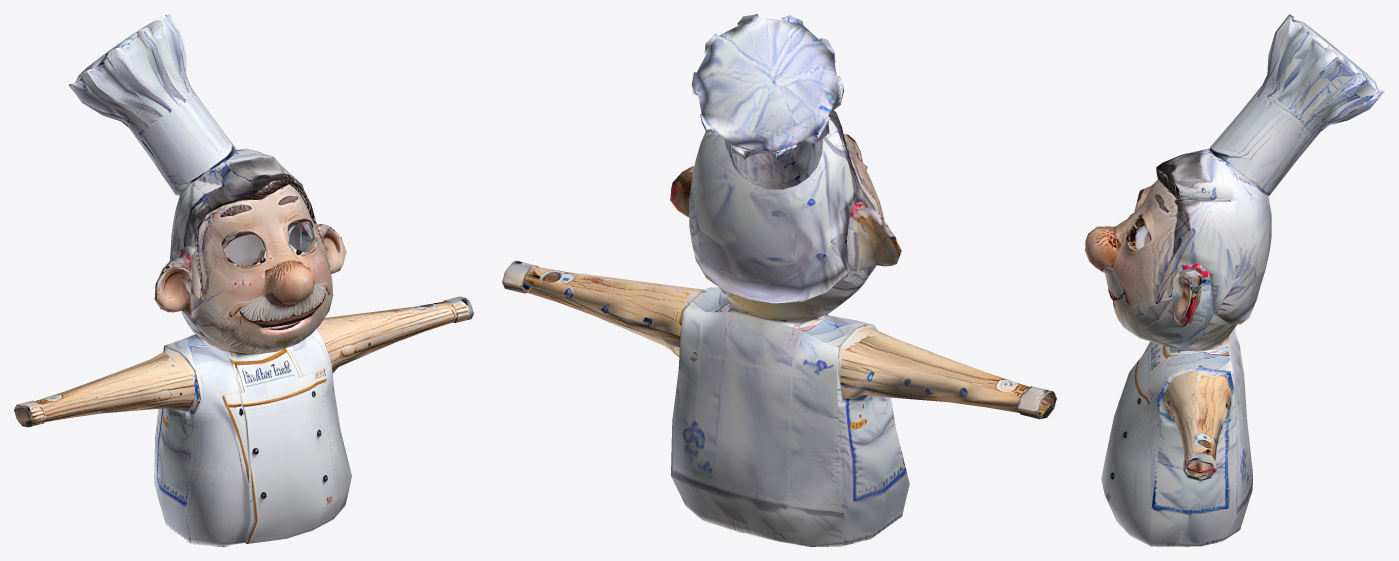
File: chef1.glb
3 views of the same model, side by side, from view 1: azimuth 30°, elevation 25°; view 2: azimuth 150°, elevation 25°; view 3: azimuth 270°, elevation 25° (orthographic). The views are drawn at different scales.
Size of the model in its own units: 0.8074 by 0.8044 by 0.4672.
1 material, 1 textured.
